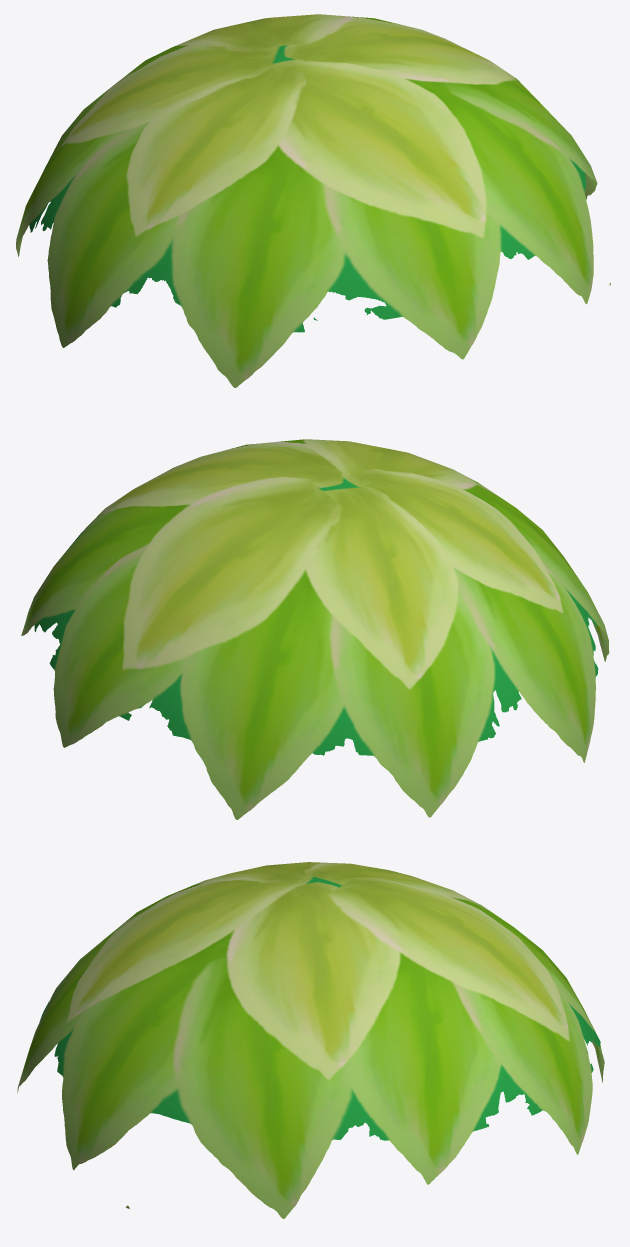
Rendered from Bush_Leaves_1.1.fbx.
The picture shows the model from 3 angles, top to bottom: view 1: azimuth 30°, elevation 25°; view 2: azimuth 150°, elevation 25°; view 3: azimuth 270°, elevation 25°; orthographic projection.
Parts seen in each view (by area): view 1: pSphere10; view 2: pSphere10; view 3: pSphere10.
Part boxes in pixels (box(x1,y1,x2,y2)): pSphere10: box(16, 14, 610, 387); pSphere10: box(21, 439, 609, 819); pSphere10: box(17, 862, 604, 1218).
Bounding box in the file's own units: 112 × 48.95 × 112.
